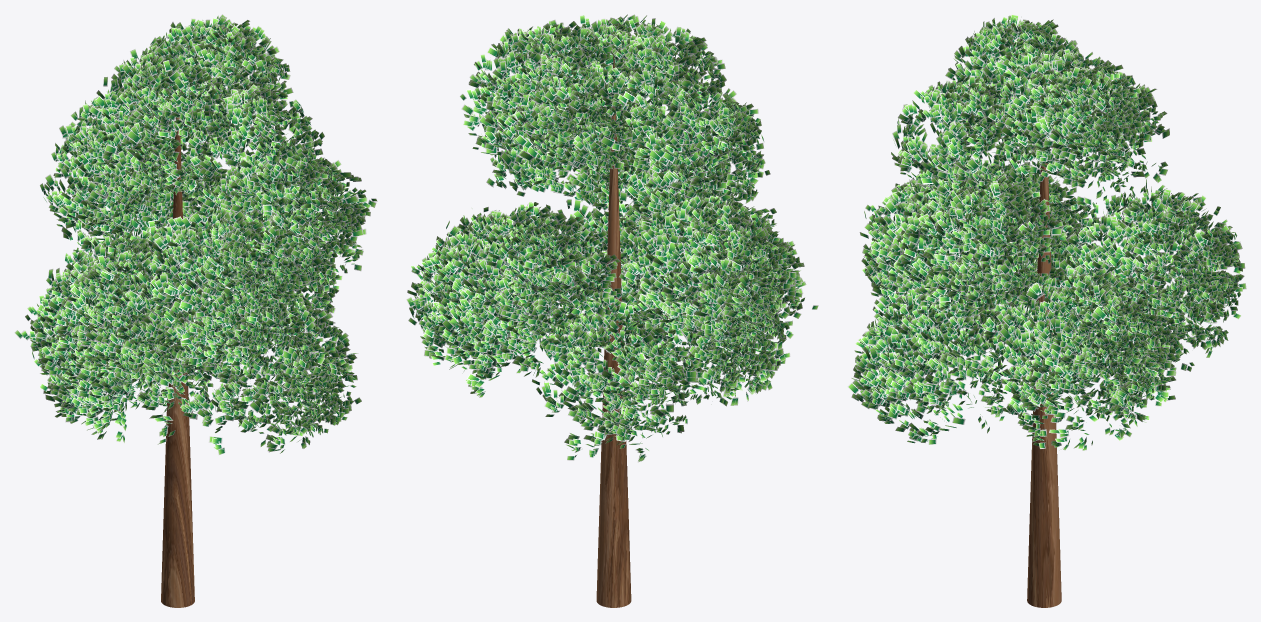
The model's file is Pohon3 1.fbx.
3 renders of one model, left to right at view 1: azimuth 30°, elevation 25°; view 2: azimuth 150°, elevation 25°; view 3: azimuth 270°, elevation 25°, orthographic. The views are drawn at different scales.
Parts seen in each view (by area): view 1: Daun pohon2, Pohon3; view 2: Daun pohon2, Pohon3; view 3: Daun pohon2, Pohon3.
Part boxes in pixels (x1,y1,x2,y2): Daun pohon2: (14, 14, 377, 454); Pohon3: (161, 60, 194, 607); Daun pohon2: (406, 14, 818, 462); Pohon3: (596, 56, 631, 607); Daun pohon2: (847, 14, 1246, 450); Pohon3: (1027, 49, 1061, 607).
Size of the model in its own units: 249 by 263 by 415.
